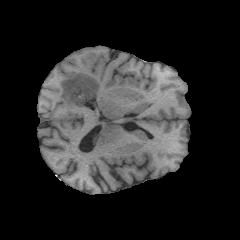glioma: (60, 72, 100, 106)
